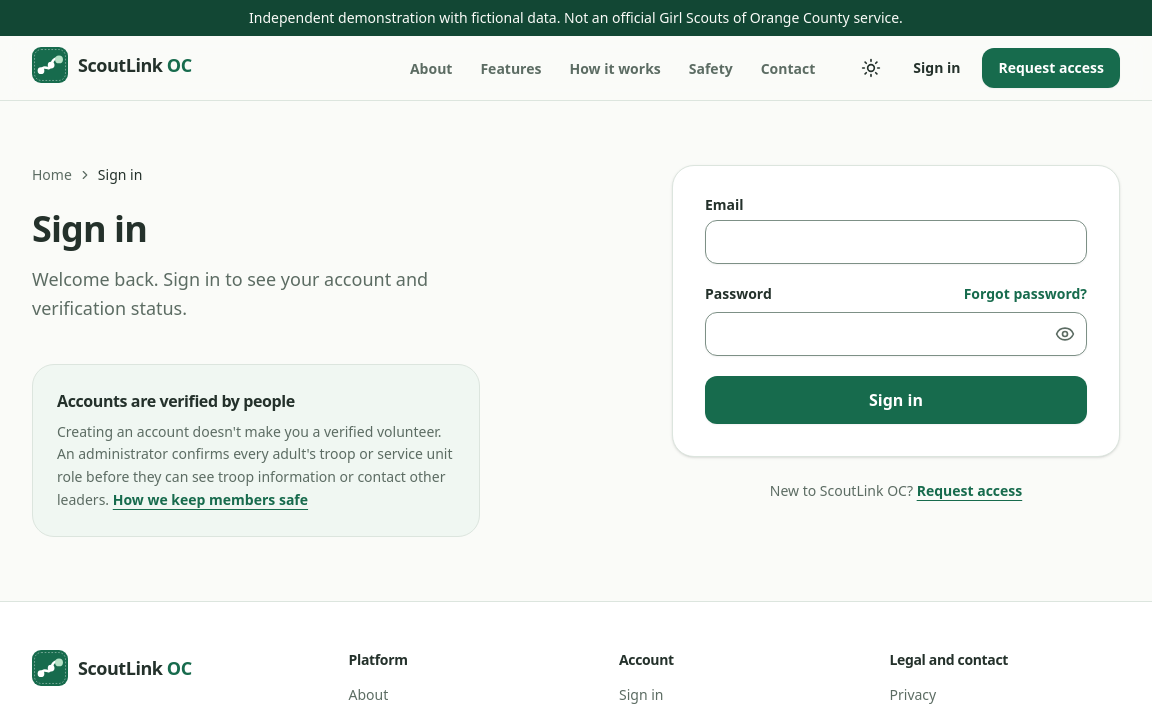
Test: sign in and sign up › explains a wrong password without showing server text
Type "alice@example.org" into the field labelled "Email" at x=896, y=242, box [705,220,1087,264]
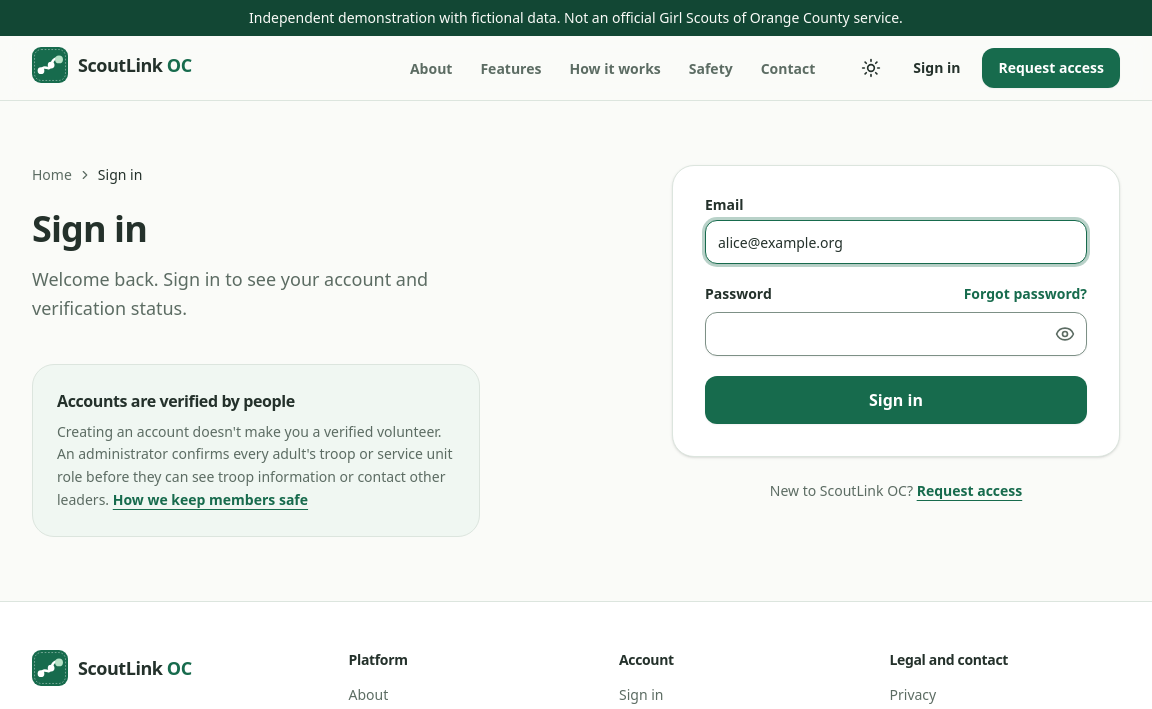
Type "wrong password!" into the password field labelled "Password" at x=896, y=334, box [705,312,1087,356]
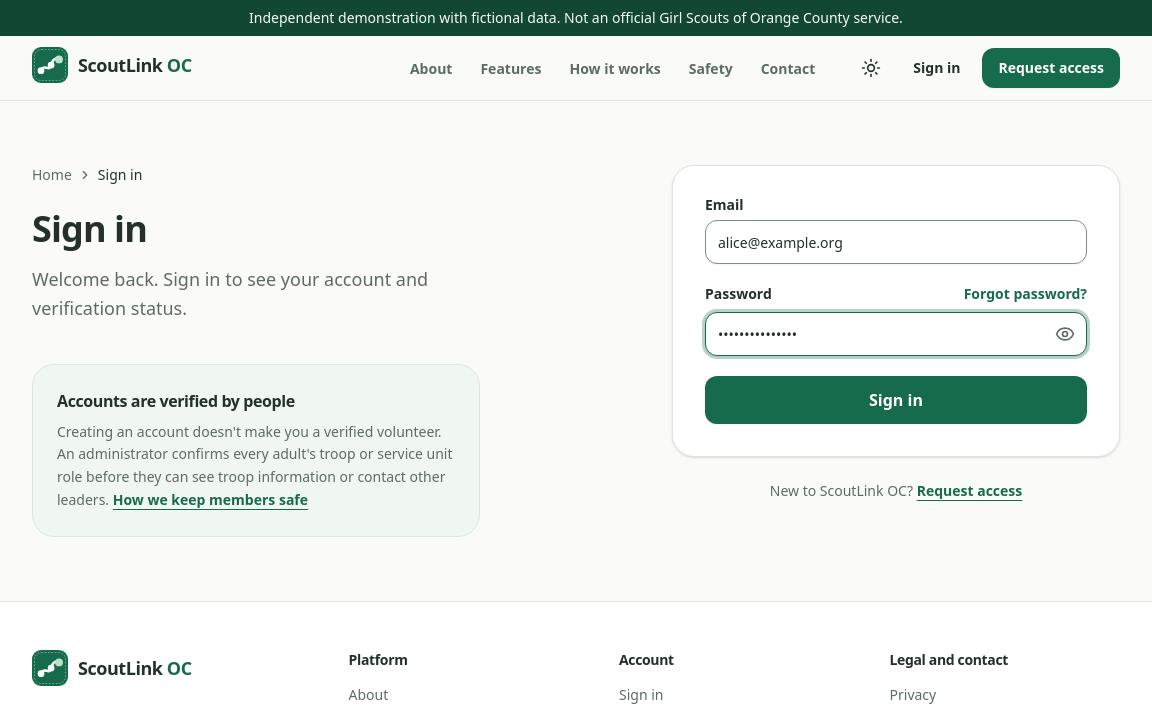
Click the button "Sign in" at x=896, y=400, box [705,376,1087,424]
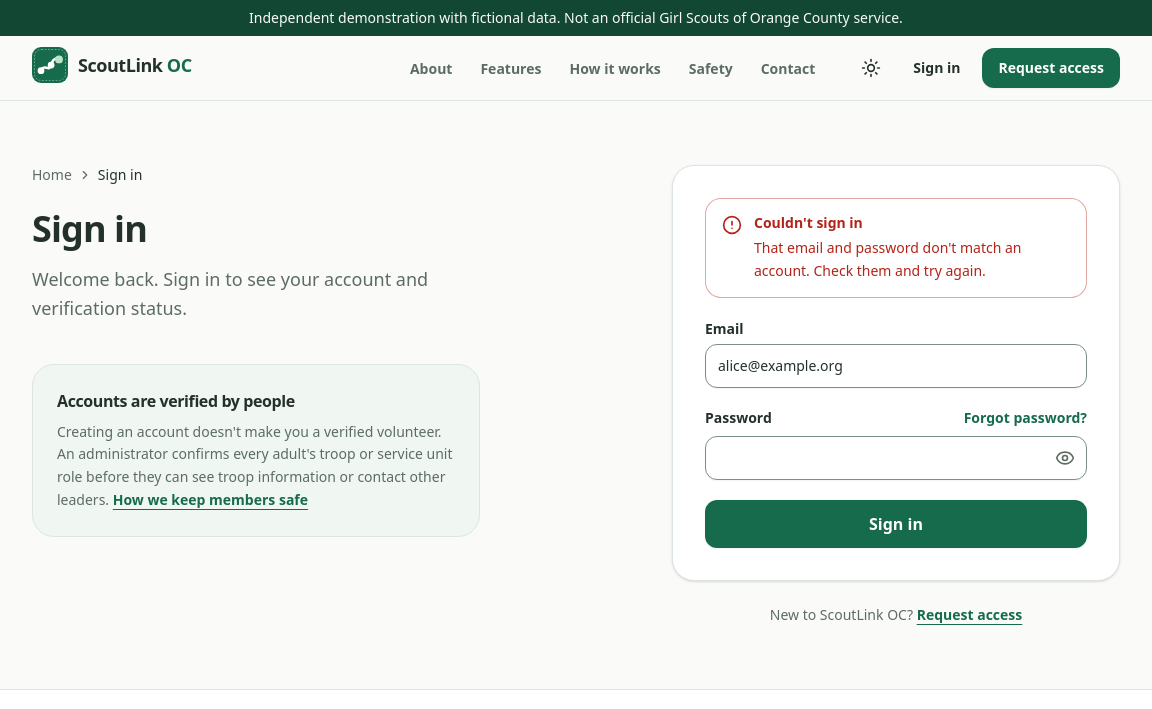
Expected: the text "That email and password don't match an account. Check them and try again." is shown, [754,238,1022,280]
Expected: the password field labelled "Password" is empty, [705,436,1087,480]
